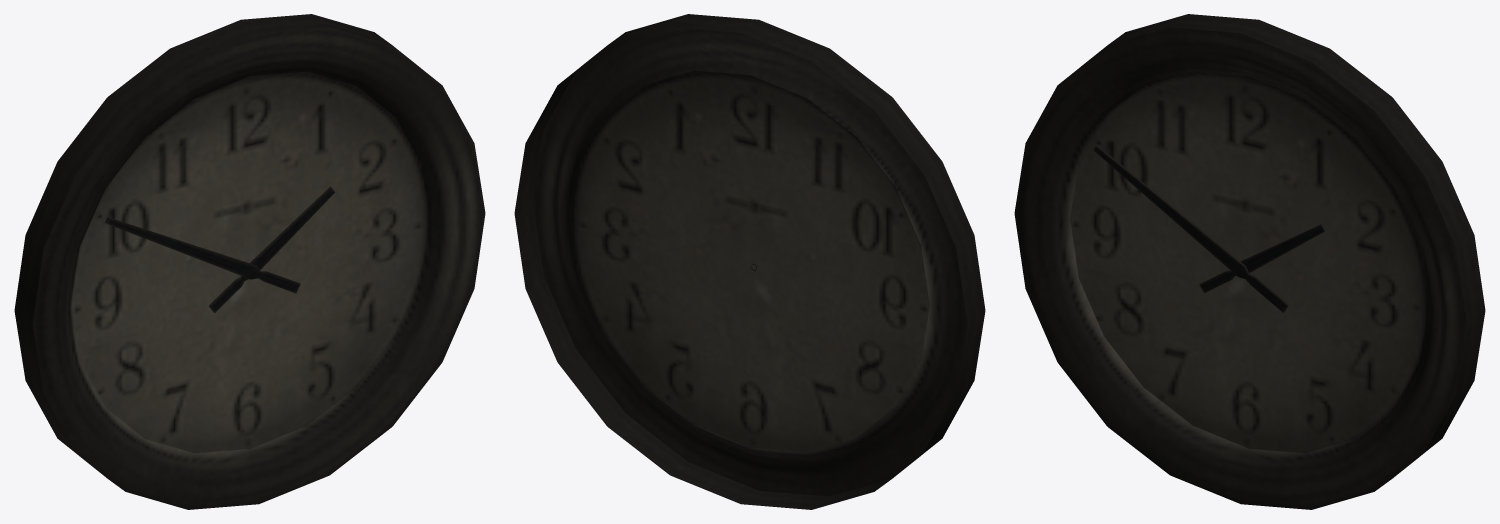
Rendered from clock_2.obj.
The picture shows the model from 3 angles, left to right: view 1: azimuth 30°, elevation 25°; view 2: azimuth 150°, elevation 25°; view 3: azimuth 330°, elevation 25°; orthographic projection.
Parts seen in each view (by area): view 1: clock_2, clock_2_arm_minutes, clock_2_arm_hours; view 2: clock_2; view 3: clock_2, clock_2_arm_minutes, clock_2_arm_hours.
Part boxes in pixels (box(x1,y1,x2,y2)): clock_2: box(14, 14, 485, 509); clock_2_arm_minutes: box(105, 217, 300, 293); clock_2_arm_hours: box(209, 186, 335, 312); clock_2: box(514, 14, 985, 509); clock_2: box(1014, 14, 1485, 509); clock_2_arm_minutes: box(1093, 145, 1288, 312); clock_2_arm_hours: box(1199, 224, 1325, 293).
Size of the model in its own units: 0.2816 by 0.28 by 0.021.
